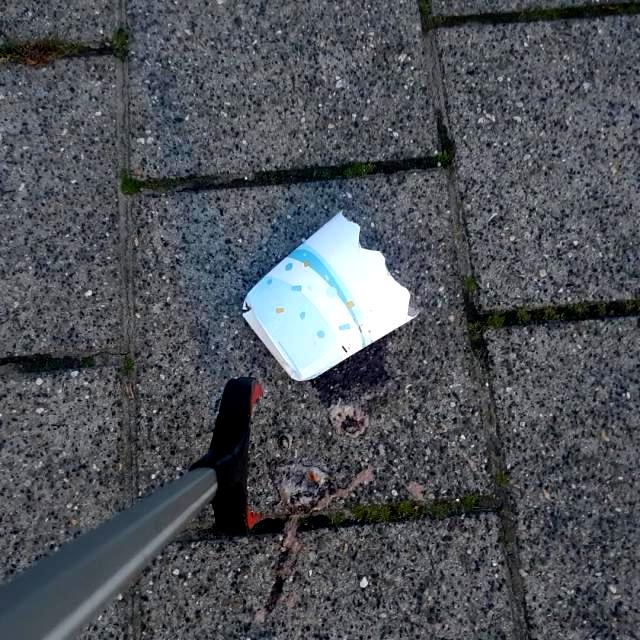Paper: (240, 206, 422, 384)
